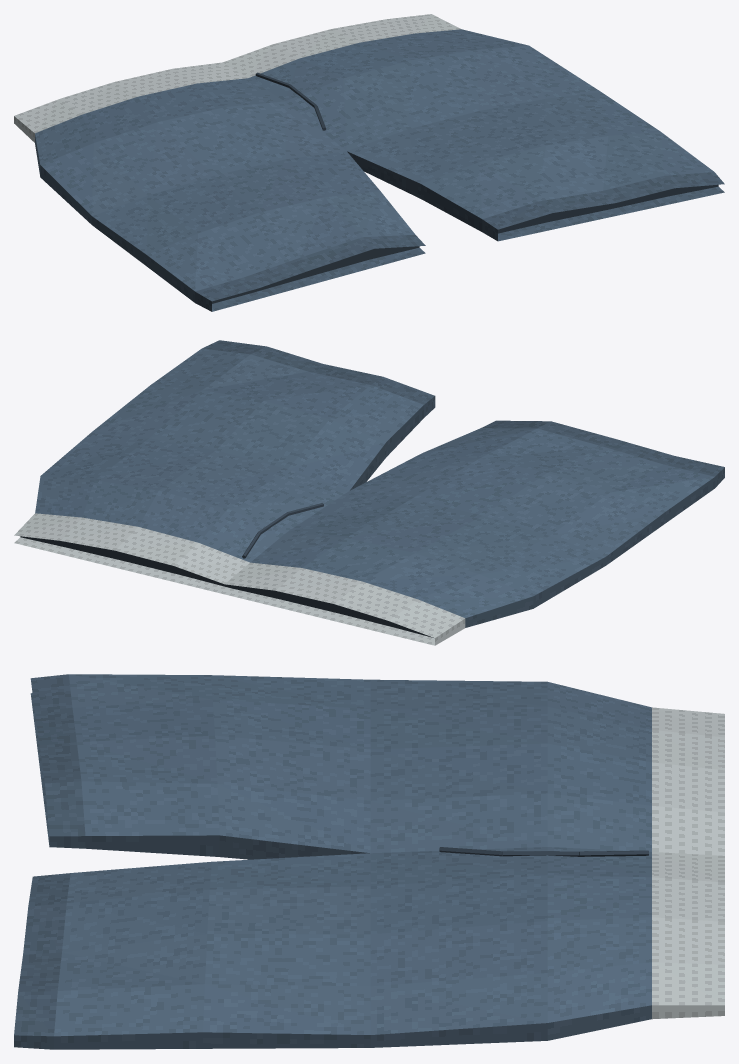
Rendered from xlboxer_shorts.glb.
3 views of the same model, one above another, from view 1: azimuth 30°, elevation 25°; view 2: azimuth 150°, elevation 25°; view 3: azimuth 270°, elevation 25° (orthographic). The views are drawn at different scales.
Visible parts, largest first — view 1: block_sewn shorts with open waist and cuffs; view 2: block_sewn shorts with open waist and cuffs; view 3: block_sewn shorts with open waist and cuffs.
Boxes of the visible parts, x1,y1,x2,y2 form: block_sewn shorts with open waist and cuffs: [14, 14, 724, 311]; block_sewn shorts with open waist and cuffs: [14, 340, 724, 645]; block_sewn shorts with open waist and cuffs: [14, 674, 724, 1049].
Size of the model in its own units: 0.3972 by 0.0217 by 0.3325.
Materials: 1 (1 with a texture image).
